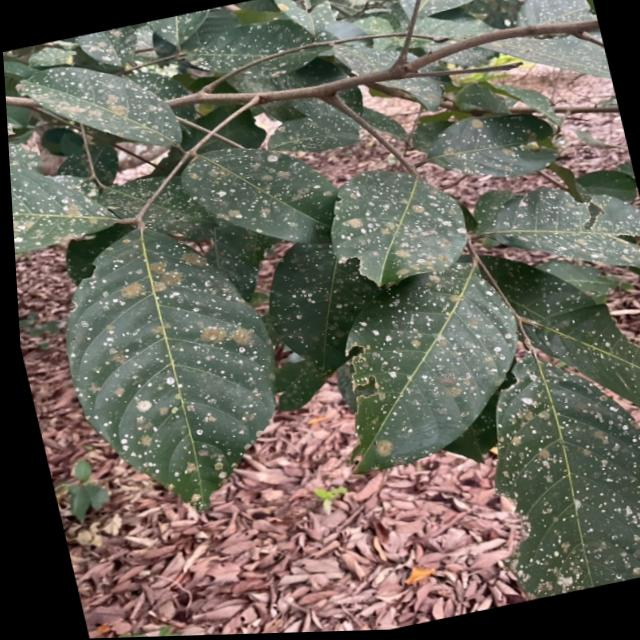Algal Leaf Spot: (306, 187, 640, 511), (207, 0, 619, 248), (0, 4, 288, 277), (70, 243, 284, 493), (460, 347, 640, 591)
